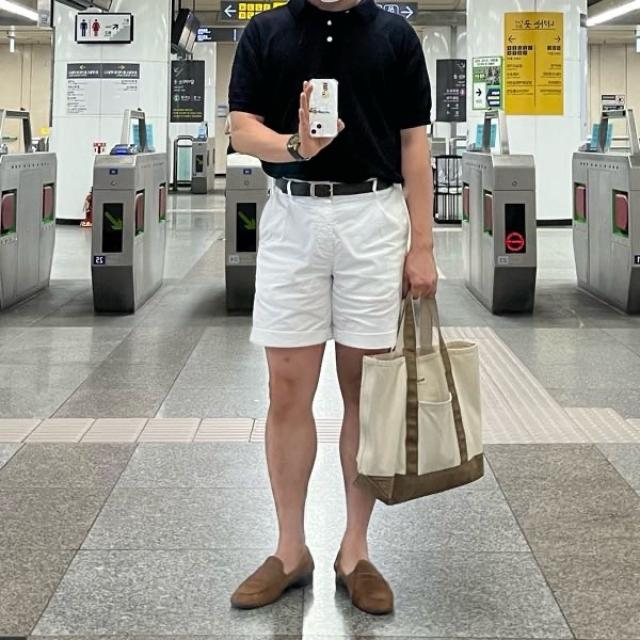shortpants: (248, 174, 411, 349)
shortsleeve: (226, 0, 432, 181)
